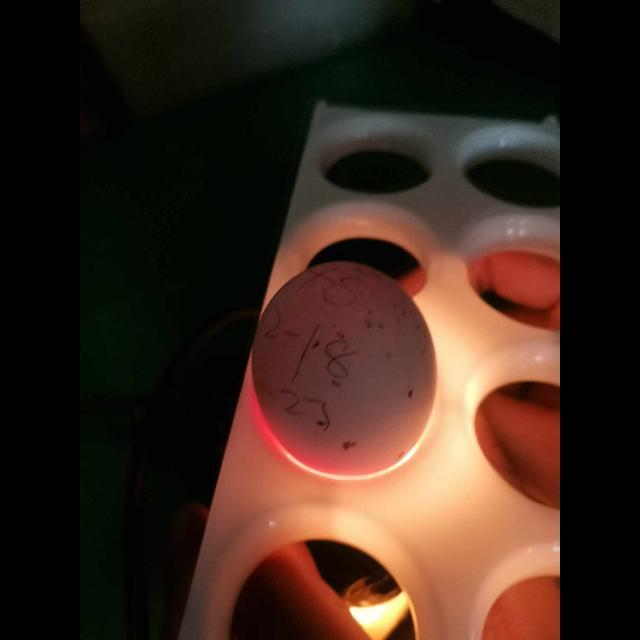A - Good: (242, 253, 442, 480)
